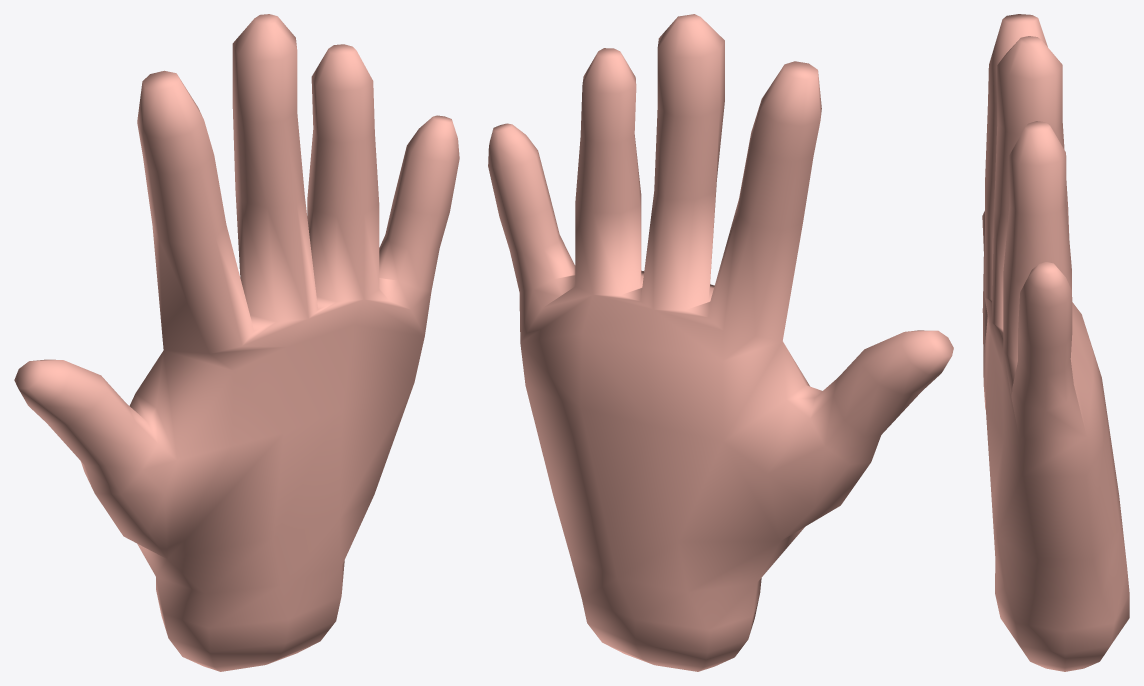
Rendered from ManoHIzq.fbx.
3 views of the same model, side by side, from view 1: azimuth 30°, elevation 25°; view 2: azimuth 150°, elevation 25°; view 3: azimuth 270°, elevation 25° (orthographic). The views are drawn at different scales.
Visible parts, largest first — view 1: Sphere; view 2: Sphere; view 3: Sphere.
Boxes of the visible parts, x1,y1,x2,y2 form: Sphere: (14,14,459,671); Sphere: (488,14,953,671); Sphere: (982,14,1129,671).
Size of the model in its own units: 113 by 154 by 33.44.
